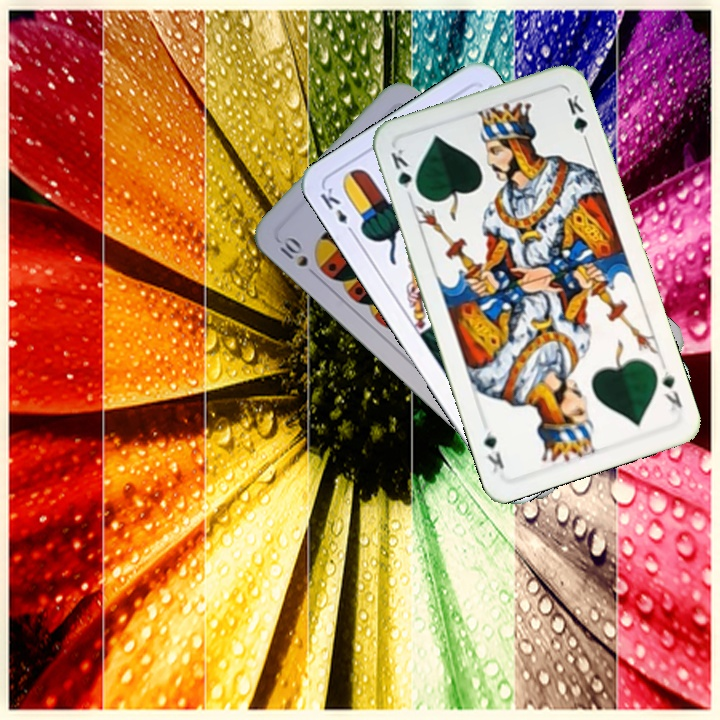EK: (315, 183, 358, 238)
GK: (386, 144, 422, 198), (658, 365, 685, 414)
S10: (274, 232, 311, 270)
